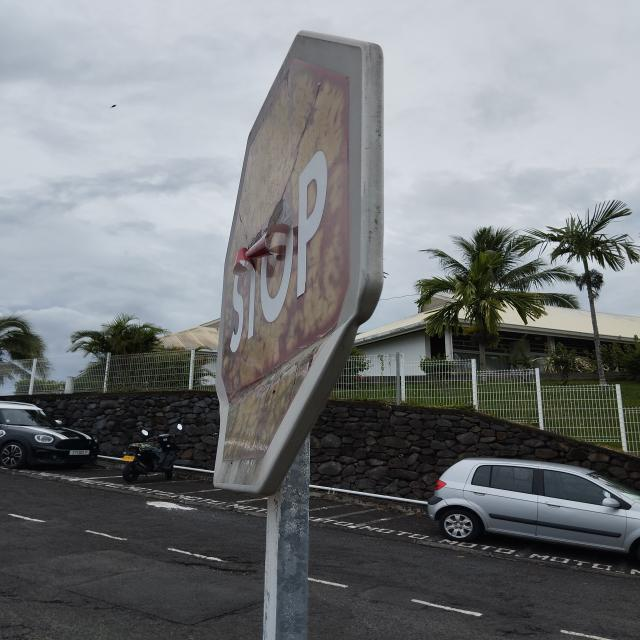Panneau-Stop: (208, 38, 386, 491)
